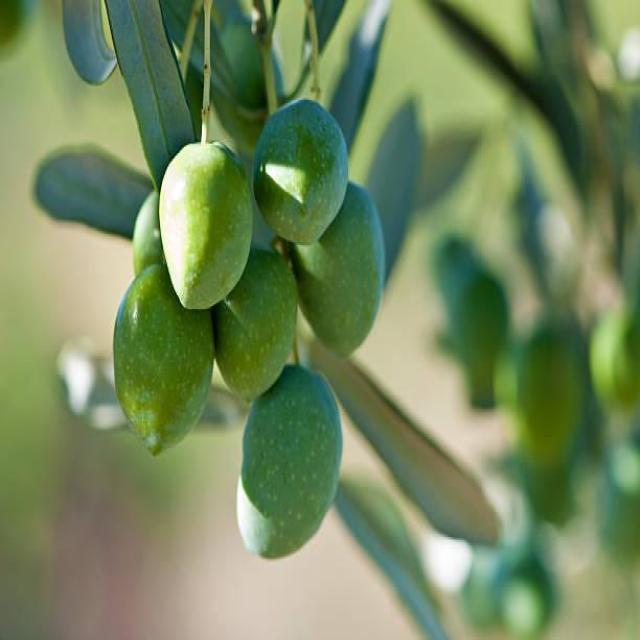Healthy: (236, 365, 342, 557), (114, 264, 213, 454), (104, 0, 197, 187), (160, 142, 252, 309), (295, 181, 383, 354), (253, 100, 347, 244), (214, 250, 296, 398)
